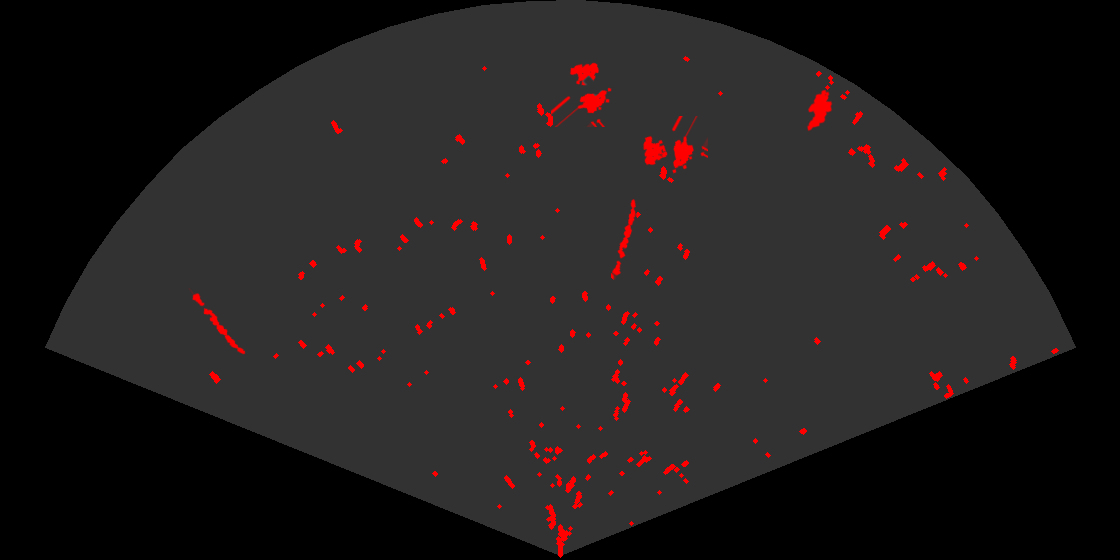AUV: (805, 88, 834, 133)
cage: (551, 61, 613, 127), (641, 116, 708, 175)
chain: (187, 288, 247, 356), (610, 197, 638, 280)
